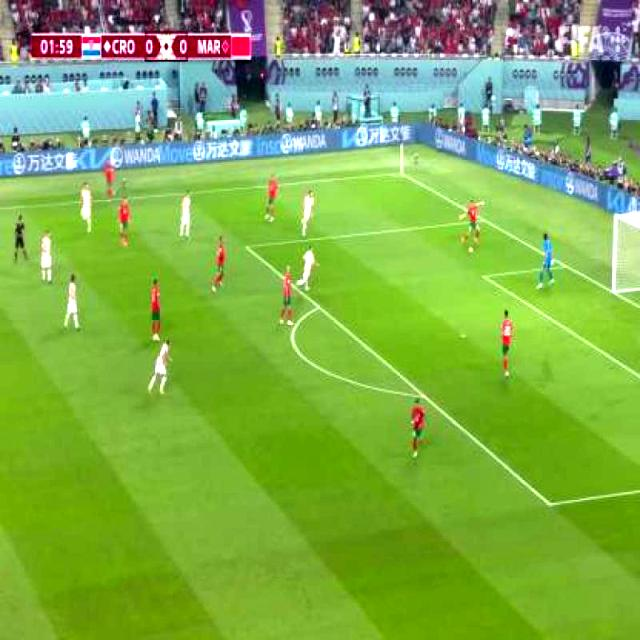bigarea_bottom_inner: (540, 490, 558, 520)
bigarea_top_inner: (242, 238, 252, 256)
bigarea_top_outter: (478, 214, 488, 228)
bottom_arc_area_intersection: (414, 384, 431, 408)
corner: (397, 170, 406, 177)
smallarea_top_inner: (480, 268, 490, 288)
smallarea_top_outter: (560, 258, 570, 276)
top_arc_area_intersection: (312, 297, 326, 318)
